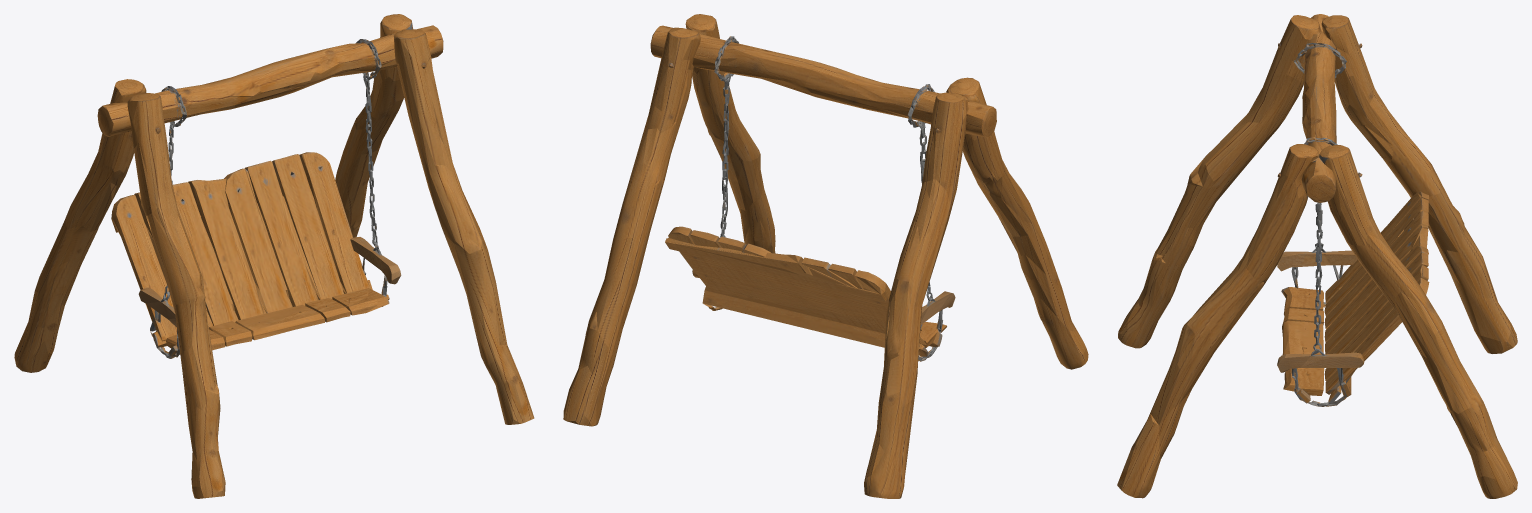
File: swing_set.glb
3 views of the same model, side by side, from view 1: azimuth 30°, elevation 25°; view 2: azimuth 150°, elevation 25°; view 3: azimuth 270°, elevation 25° (orthographic).
Size of the model in its own units: 1.83 by 1.77 by 1.9.
1 material, 1 textured.
